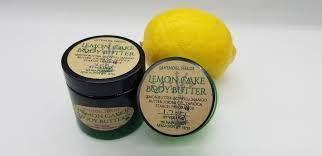lemon: (140, 7, 236, 80)
